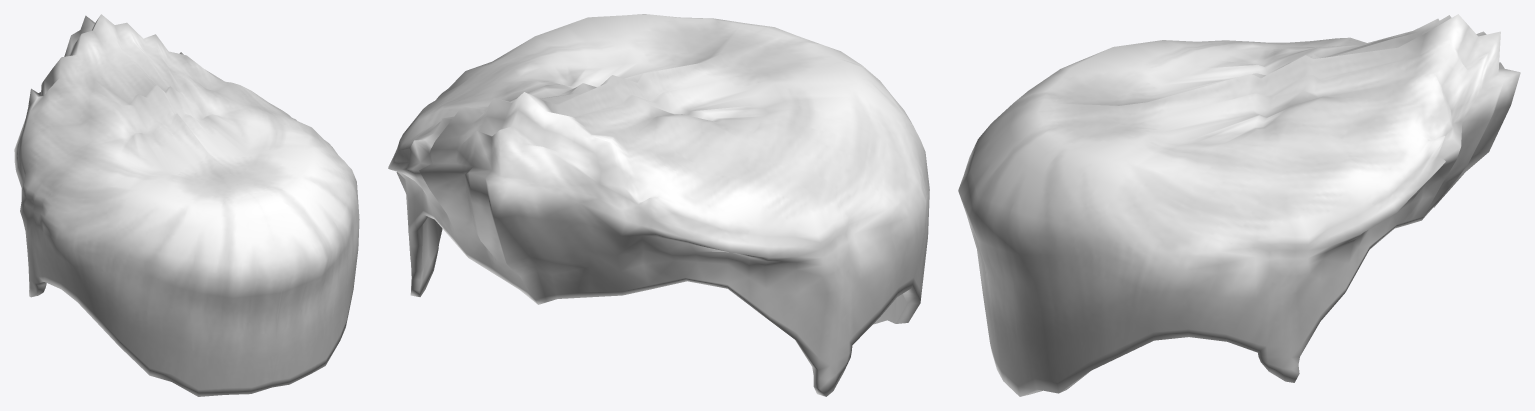
The model's file is acc.glb.
3 views of the same model, side by side, from view 1: azimuth 30°, elevation 25°; view 2: azimuth 150°, elevation 25°; view 3: azimuth 270°, elevation 25° (orthographic). The views are drawn at different scales.
Visible parts, largest first — view 1: Handle; view 2: Handle; view 3: Handle.
Part boxes in pixels (bbox=[...]): Handle: bbox=[14, 14, 359, 396]; Handle: bbox=[388, 14, 929, 396]; Handle: bbox=[958, 14, 1520, 396].
Size of the model in its own units: 1.3 by 1.07 by 1.59.
1 material, 1 textured.
